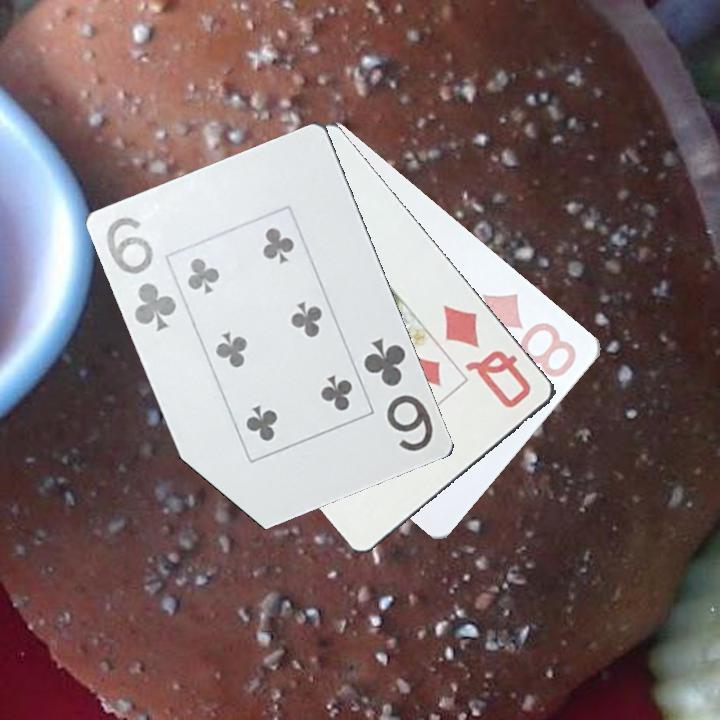6c: (103, 213, 181, 335), (360, 334, 438, 455)
8d: (479, 289, 581, 381)
Qd: (440, 301, 535, 412)
